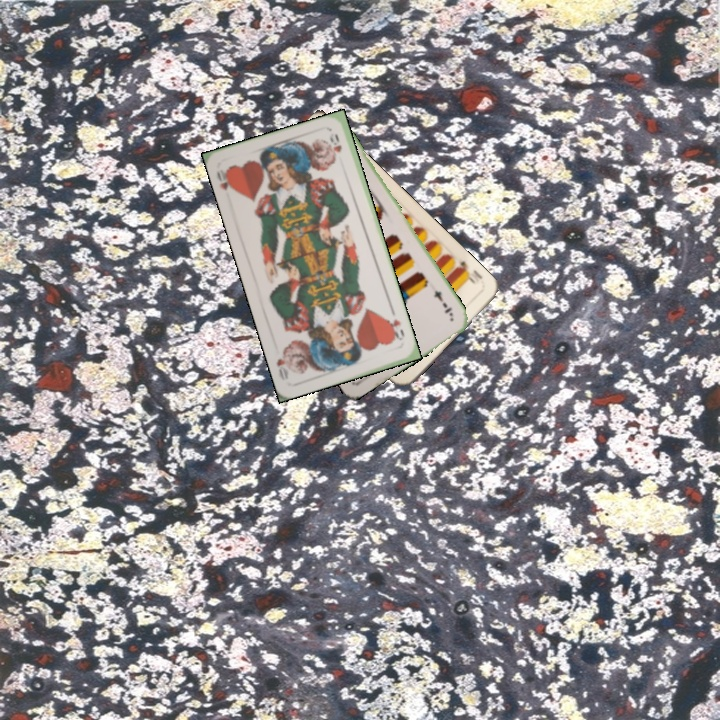E10: (452, 257, 478, 287)
E7: (430, 286, 455, 319)
HO: (212, 165, 238, 196), (384, 315, 407, 343)
